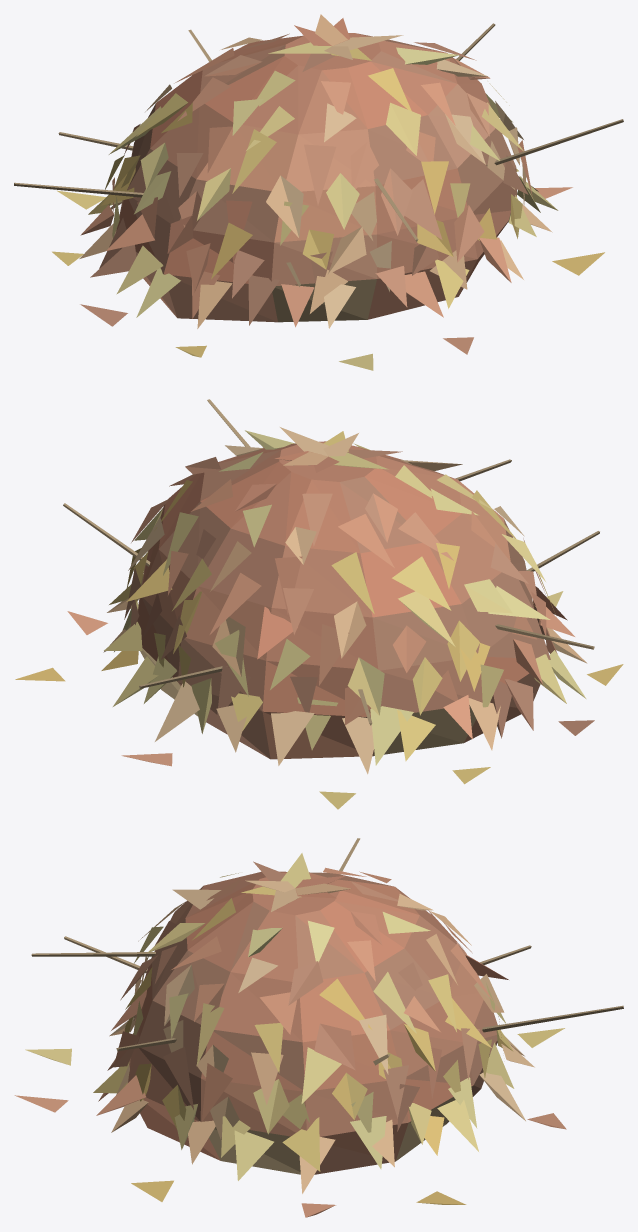
The model's file is leaf-pile.glb.
3 views of the same model, one above another, from view 1: azimuth 30°, elevation 25°; view 2: azimuth 150°, elevation 25°; view 3: azimuth 270°, elevation 25° (orthographic). The views are drawn at different scales.
Parts seen in each view (by area): view 1: leaf-pile; view 2: leaf-pile; view 3: leaf-pile.
Boxes of the visible parts, x1=… form: leaf-pile: x1=14, y1=14, x2=623, y2=370; leaf-pile: x1=15, y1=399, x2=623, y2=809; leaf-pile: x1=14, y1=838, x2=623, y2=1217.
Size of the model in its own units: 1.2 by 0.478 by 1.17.
